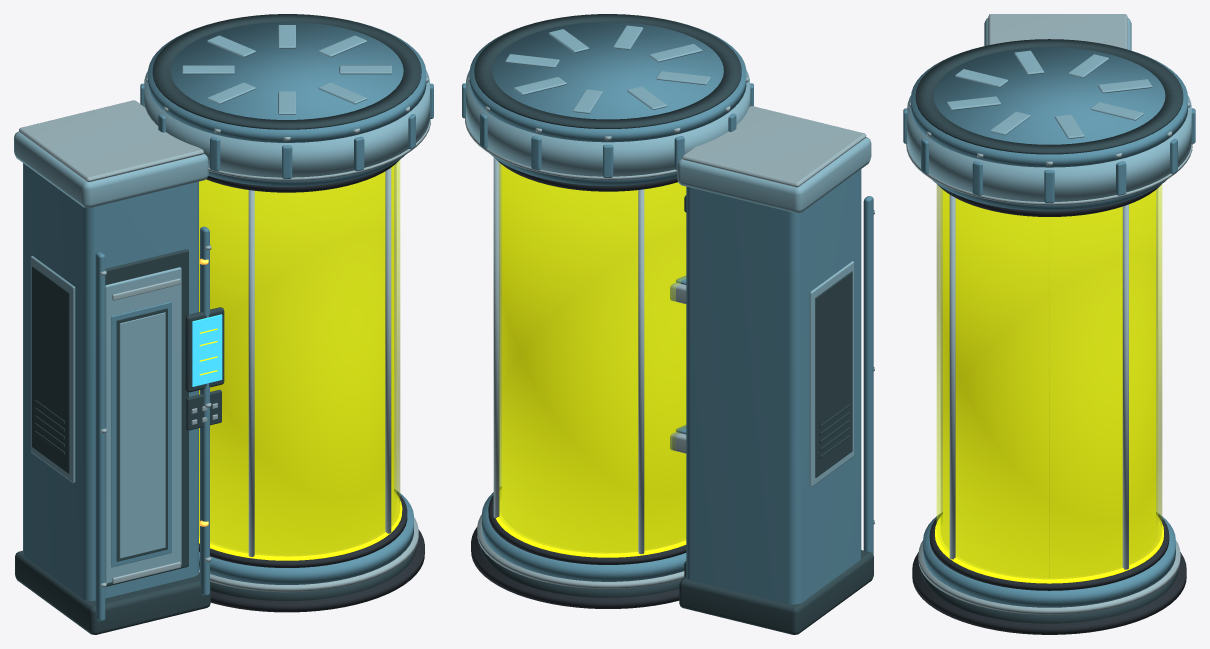
The model's file is BlueTube_NeonYellowCore.glb.
3 renders of one model, left to right at view 1: azimuth 30°, elevation 25°; view 2: azimuth 150°, elevation 25°; view 3: azimuth 270°, elevation 25°, orthographic.
Parts seen in each view (by area): view 1: Tube_Glossy_cobalt_blue_enamel, Tube_Yellow_glass_shell, Tube_Neon_yellow_energy_core, Tube_Worn_light_blue_panels, Tube_Recessed_graphite, Tube_Polished_steel_edge, Tube_Dark_rubber_gasket, Tube_Diagnostic_screen, Tube_Indicator_neon_yellow; view 2: Tube_Glossy_cobalt_blue_enamel, Tube_Yellow_glass_shell, Tube_Neon_yellow_energy_core, Tube_Recessed_graphite, Tube_Worn_light_blue_panels, Tube_Polished_steel_edge, Tube_Dark_rubber_gasket, Tube_Indicator_neon_yellow; view 3: Tube_Yellow_glass_shell, Tube_Neon_yellow_energy_core, Tube_Glossy_cobalt_blue_enamel, Tube_Worn_light_blue_panels, Tube_Polished_steel_edge, Tube_Recessed_graphite, Tube_Dark_rubber_gasket, Tube_Indicator_neon_yellow.
Part boxes in pixels (x1,y1,x2,y2): Tube_Glossy_cobalt_blue_enamel: [23, 19, 433, 621]; Tube_Yellow_glass_shell: [199, 160, 400, 556]; Tube_Neon_yellow_energy_core: [199, 165, 393, 553]; Tube_Worn_light_blue_panels: [14, 25, 429, 583]; Tube_Recessed_graphite: [15, 14, 421, 634]; Tube_Polished_steel_edge: [19, 76, 430, 592]; Tube_Dark_rubber_gasket: [199, 160, 424, 612]; Tube_Diagnostic_screen: [192, 314, 222, 386]; Tube_Indicator_neon_yellow: [199, 328, 402, 560]; Tube_Glossy_cobalt_blue_enamel: [462, 19, 873, 604]; Tube_Yellow_glass_shell: [499, 163, 686, 553]; Tube_Neon_yellow_energy_core: [501, 165, 686, 550]; Tube_Recessed_graphite: [474, 14, 873, 634]; Tube_Worn_light_blue_panels: [466, 25, 871, 486]; Tube_Polished_steel_edge: [465, 76, 874, 588]; Tube_Dark_rubber_gasket: [471, 159, 686, 608]; Tube_Indicator_neon_yellow: [495, 489, 686, 557]; Tube_Yellow_glass_shell: [936, 184, 1162, 578]; Tube_Neon_yellow_energy_core: [943, 190, 1155, 576]; Tube_Glossy_cobalt_blue_enamel: [903, 46, 1195, 607]; Tube_Worn_light_blue_panels: [907, 18, 1191, 201]; Tube_Polished_steel_edge: [906, 14, 1192, 614]; Tube_Recessed_graphite: [915, 39, 1183, 623]; Tube_Dark_rubber_gasket: [912, 184, 1186, 634]; Tube_Indicator_neon_yellow: [935, 515, 1163, 583].
Bounding box in the file's own units: 9.44 × 12.1 × 6.63.
